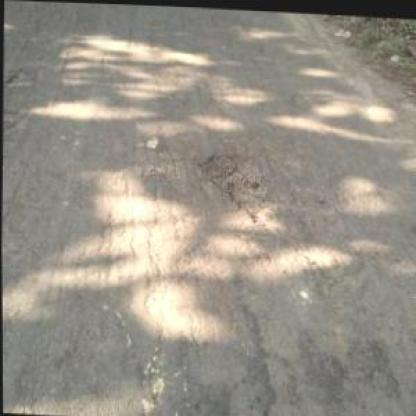pothole: (196, 147, 273, 230), (4, 66, 36, 92)
